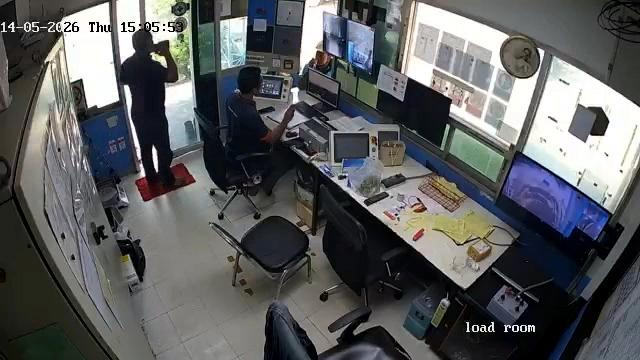Head: (238, 65, 264, 98), (131, 26, 155, 57)
People: (119, 24, 184, 188), (226, 66, 294, 198)
Phone: (257, 105, 277, 115), (148, 43, 159, 53)
